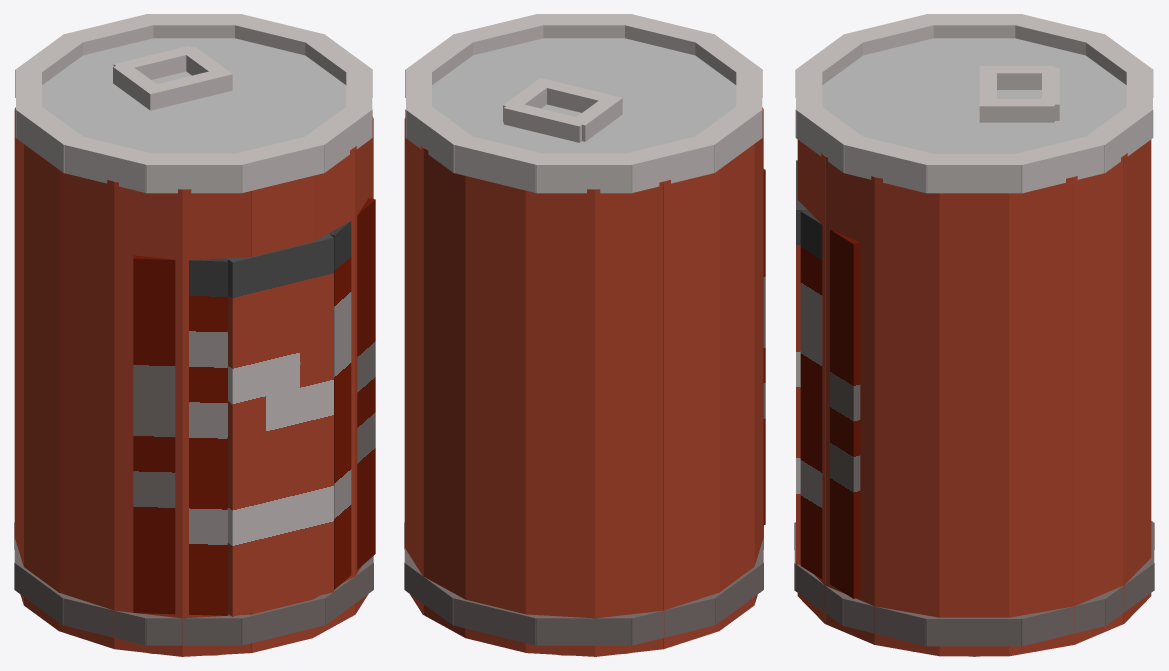
Rendered from CMU3DCMDrinkCanColaDrinksExtraCloud.glb.
The picture shows the model from 3 angles, left to right: view 1: azimuth 30°, elevation 25°; view 2: azimuth 150°, elevation 25°; view 3: azimuth 270°, elevation 25°; orthographic projection.
Parts seen in each view (by area): view 1: source front label tangent 1, source front label tangent 0, hollow printed aluminium body 09, unbroken recessed aluminium lid, hollow printed aluminium body 08, hollow printed aluminium body 10, source front label tangent 2, hollow printed aluminium body 11, hollow printed aluminium body 13, hollow printed aluminium body 12, hollow printed aluminium body 07, raised upper seam 08 (+21 smaller); view 2: hollow printed aluminium body 05, hollow printed aluminium body 06, hollow printed aluminium body 04, hollow printed aluminium body 07, unbroken recessed aluminium lid, hollow printed aluminium body 03, hollow printed aluminium body 08, hollow printed aluminium body 02, hollow printed aluminium body 09, raised upper seam 04, raised upper seam 05, raised upper seam 03 (+19 smaller); view 3: hollow printed aluminium body 00, hollow printed aluminium body 01, hollow printed aluminium body 15, unbroken recessed aluminium lid, hollow printed aluminium body 02, source front label tangent 2, hollow printed aluminium body 03, hollow printed aluminium body 14, raised upper seam 00, hollow printed aluminium body 13, raised upper seam 01, raised upper seam 11 (+18 smaller).
Part boxes in pixels (left/top/right/bottom): source front label tangent 1: left=227, top=233, right=333, bottom=616; source front label tangent 0: left=133, top=255, right=227, bottom=615; hollow printed aluminium body 09: left=58, top=169, right=115, bottom=648; unbroken recessed aluminium lid: left=42, top=38, right=346, bottom=153; hollow printed aluminium body 08: left=24, top=144, right=59, bottom=630; hollow printed aluminium body 10: left=114, top=182, right=182, bottom=656; source front label tangent 2: left=328, top=198, right=375, bottom=589; hollow printed aluminium body 11: left=182, top=189, right=252, bottom=656; hollow printed aluminium body 13: left=312, top=147, right=355, bottom=637; hollow printed aluminium body 12: left=251, top=176, right=313, bottom=652; hollow printed aluminium body 07: left=14, top=109, right=23, bottom=605; raised upper seam 08: left=145, top=153, right=242, bottom=193; hollow printed aluminium body 05: left=525, top=189, right=596, bottom=656; hollow printed aluminium body 06: left=595, top=181, right=664, bottom=656; hollow printed aluminium body 04: left=465, top=176, right=526, bottom=652; hollow printed aluminium body 07: left=663, top=169, right=719, bottom=649; unbroken recessed aluminium lid: left=432, top=38, right=736, bottom=153; hollow printed aluminium body 03: left=423, top=147, right=465, bottom=637; hollow printed aluminium body 08: left=719, top=144, right=754, bottom=630; hollow printed aluminium body 02: left=404, top=119, right=423, bottom=614; hollow printed aluminium body 09: left=754, top=108, right=763, bottom=603; raised upper seam 04: left=535, top=153, right=632, bottom=193; raised upper seam 05: left=619, top=135, right=715, bottom=193; raised upper seam 03: left=453, top=136, right=549, bottom=193; hollow printed aluminium body 00: left=939, top=193, right=1009, bottom=656; hollow printed aluminium body 01: left=1009, top=176, right=1074, bottom=656; hollow printed aluminium body 15: left=874, top=177, right=939, bottom=656; unbroken recessed aluminium lid: left=822, top=38, right=1126, bottom=153; hollow printed aluminium body 02: left=1074, top=156, right=1124, bottom=644; source front label tangent 2: left=800, top=210, right=860, bottom=598; hollow printed aluminium body 03: left=1123, top=139, right=1151, bottom=623; hollow printed aluminium body 14: left=824, top=156, right=874, bottom=644; raised upper seam 00: left=926, top=154, right=1022, bottom=193; hollow printed aluminium body 13: left=797, top=139, right=825, bottom=623; raised upper seam 01: left=1011, top=135, right=1105, bottom=193; raised upper seam 11: left=843, top=135, right=937, bottom=193.
Size of what is drawn, in the model's own units: 0.2876 by 0.4425 by 0.2876.
Materials: 8 (3 with a texture image).
